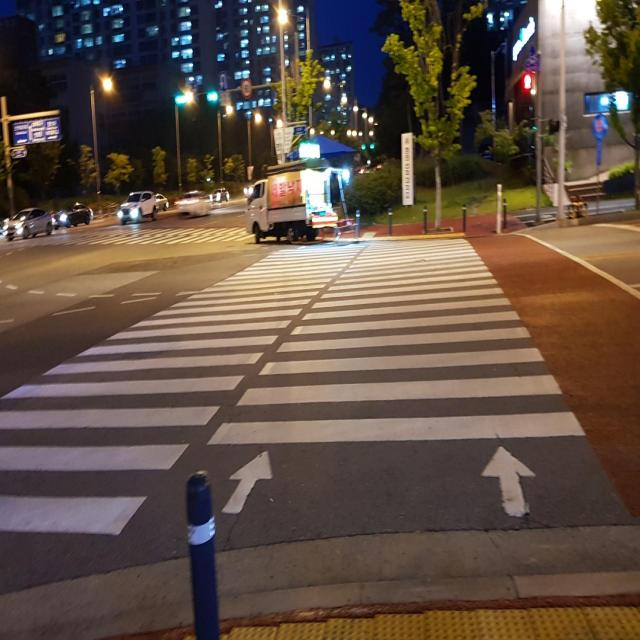빨간불: (522, 70, 532, 115)
횡단보도: (0, 236, 588, 539)
